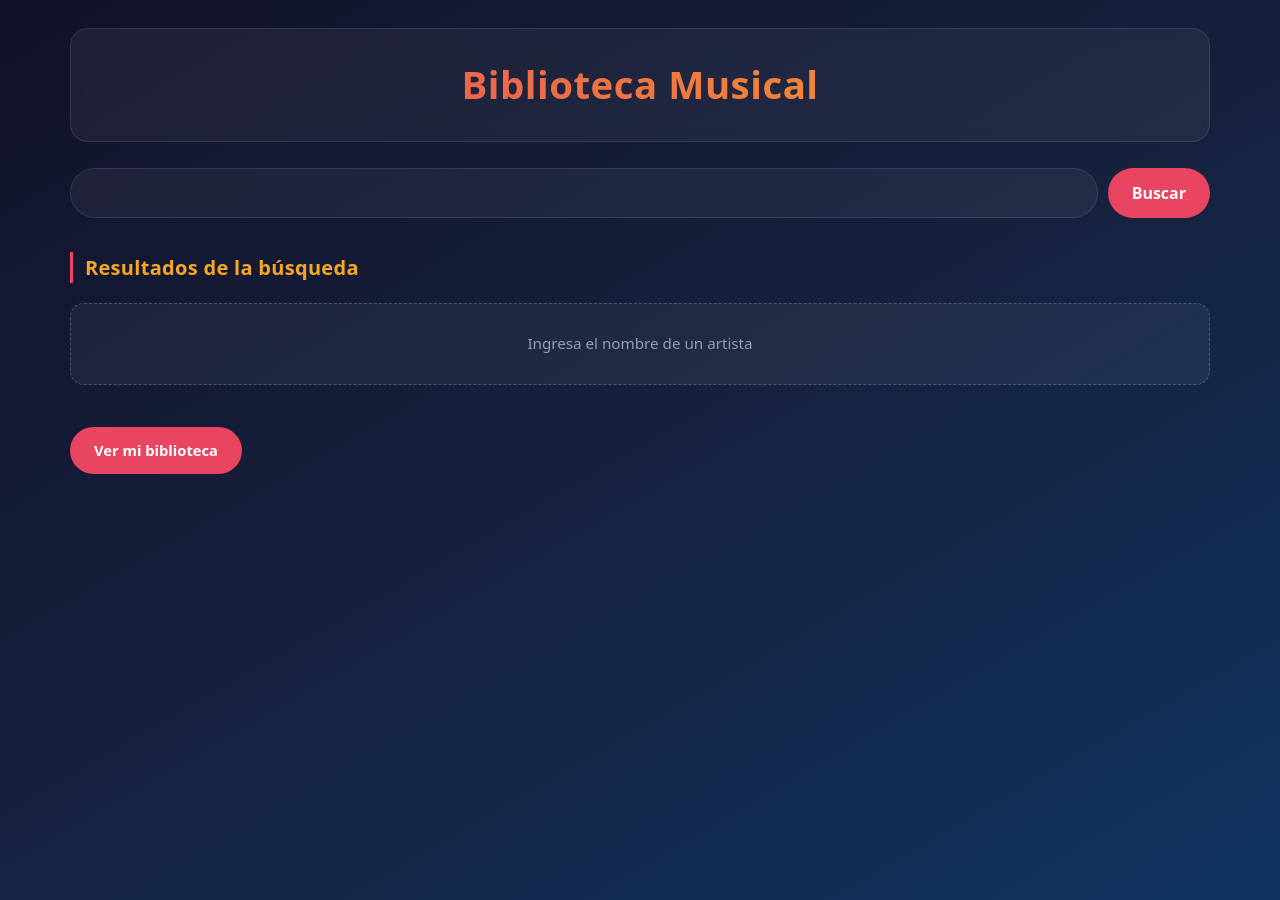
App Component › should navigate to the library when clicking Ver mi biblioteca
The image size is (1280, 900).
Click the link "Ver mi biblioteca": click(156, 450) [70,427,242,474]
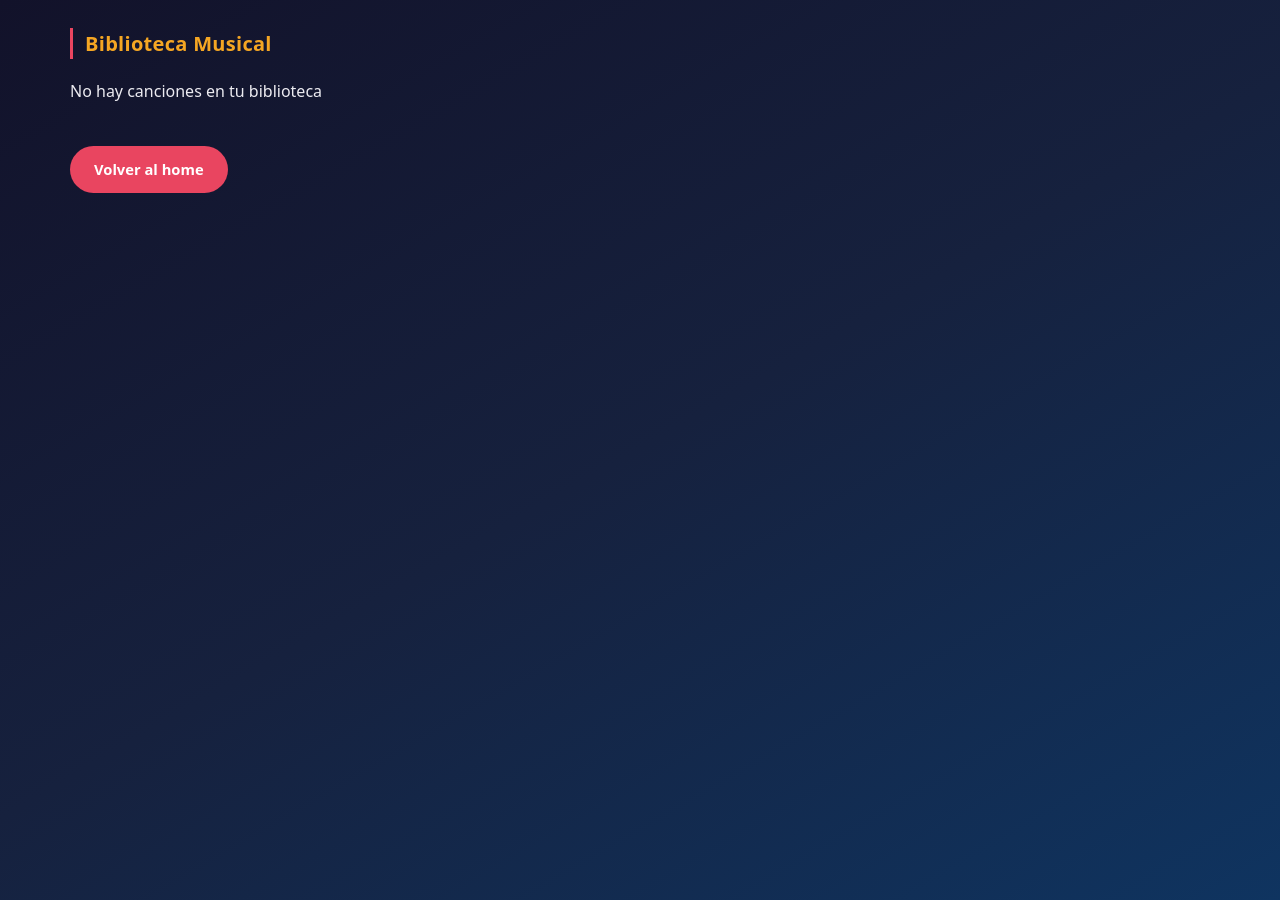
Result: the text "No hay canciones en tu biblioteca" is shown at [70,79,343,104]
Result: the link "Volver al home" is shown at [70,146,228,193]
Result: the heading "Resultados de la búsqueda" is gone
